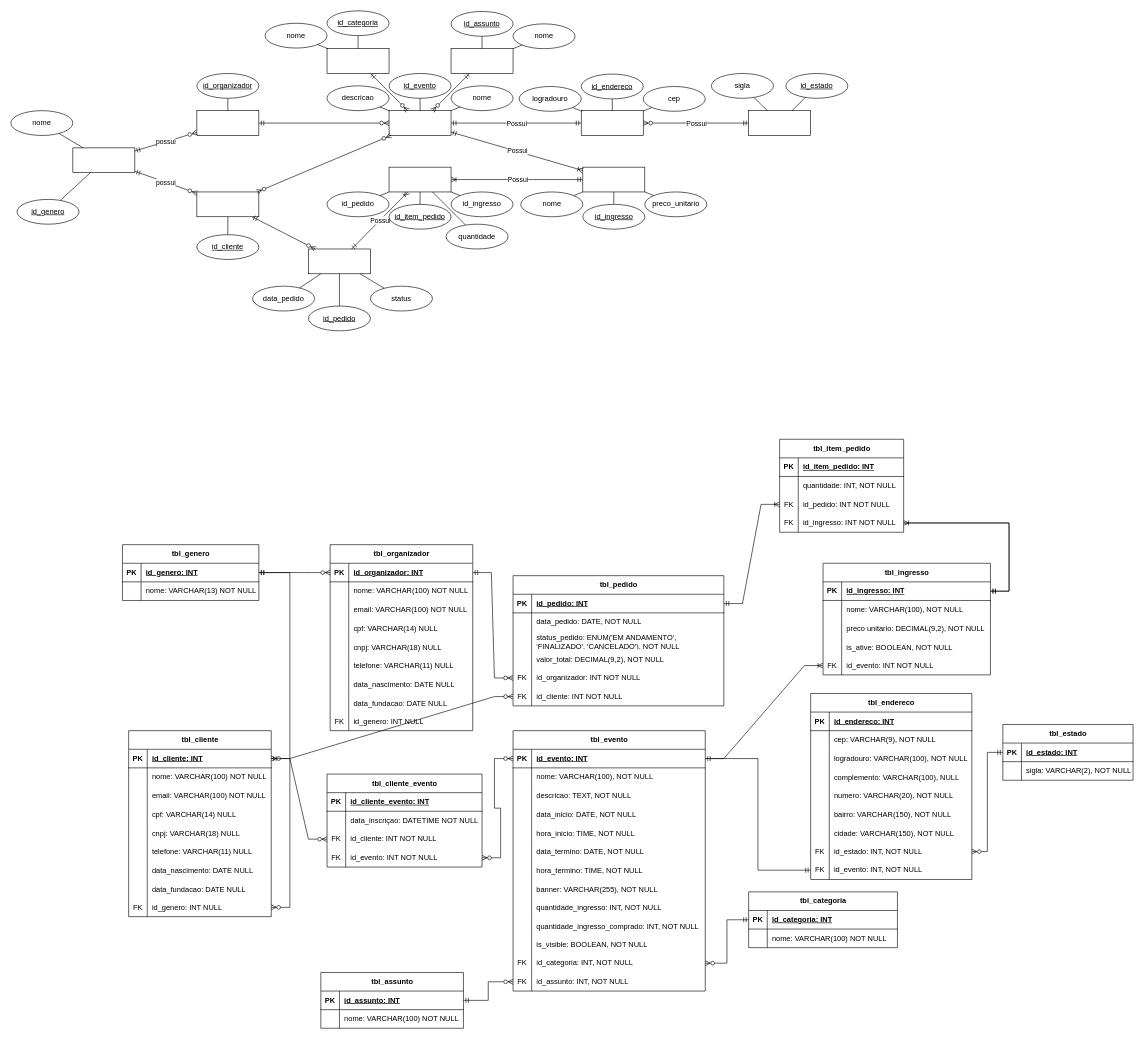
Some shapes in this 1144 by 1039 pixel diagram are drawn without their labels. Here are the shapes that lost their labels. From the top down, the centre of each, then its label:
the point at 357,60: categoria
the point at 481,60: assunto
the point at 227,122: organizador
the point at 419,122: evento
the point at 612,122: endereco
the point at 779,122: estado
the point at 103,160: genero
the point at 419,179: item_pedido
the point at 613,179: ingresso
the point at 227,204: cliente
the point at 339,261: pedido
